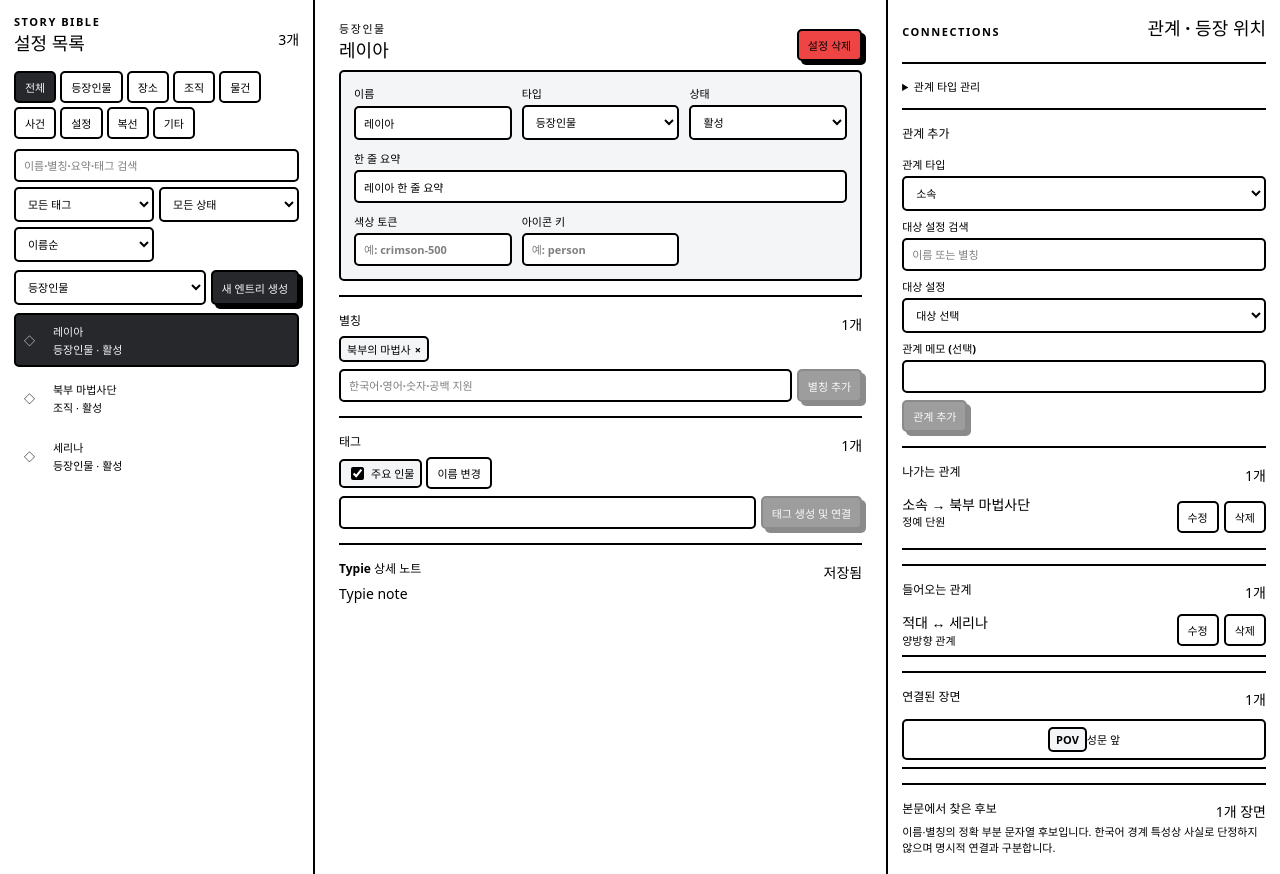
Test: Phase 1C Story Bible workspace › cancels a tag rename and starts again from the saved name
Step 1. Click the button with aria-label "주요 인물 태그 이름 변경" → (459, 473), box [426,457,492,489]
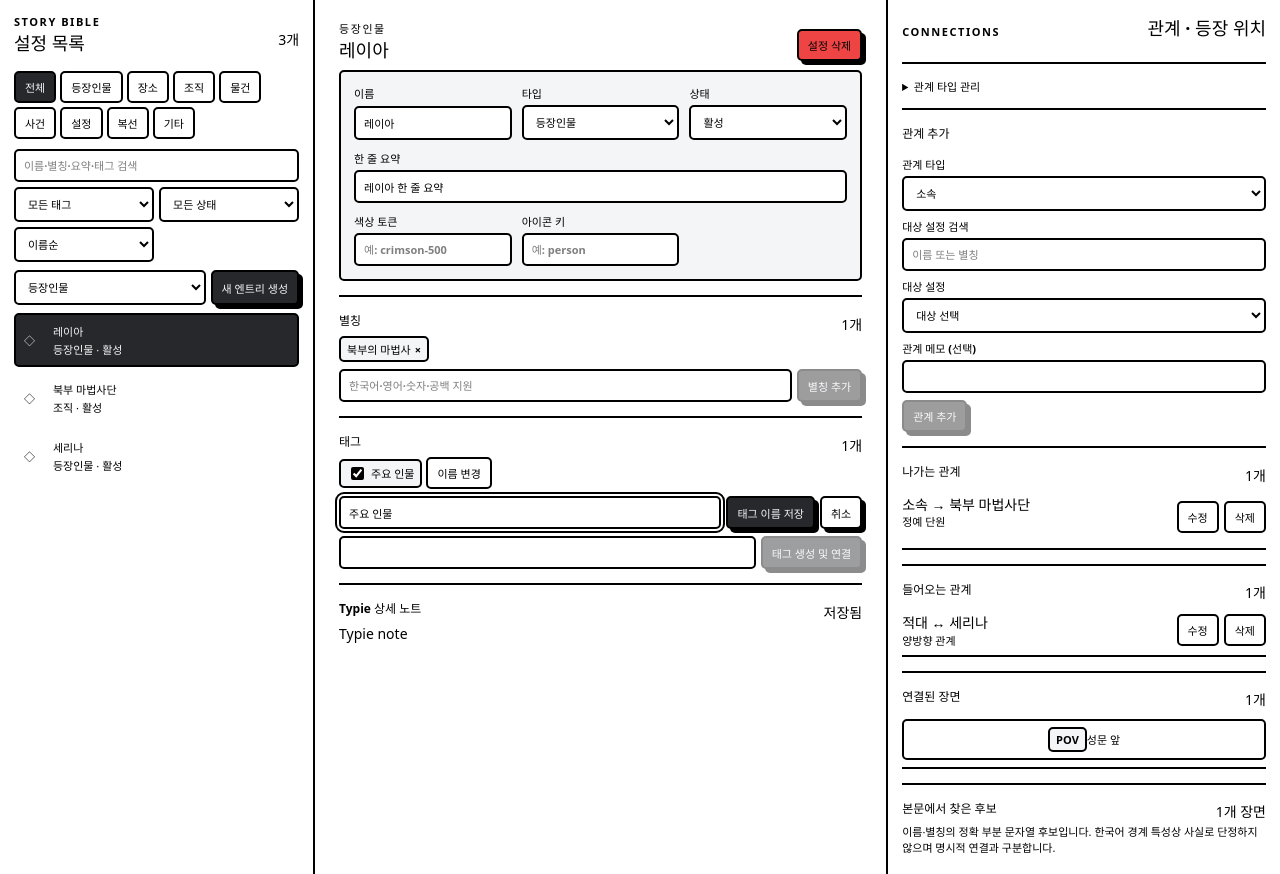
Step 2. Replace the text in the field named "주요 인물 태그 이름" with "취소할 이름" → (530, 512), box [339,496,722,529]
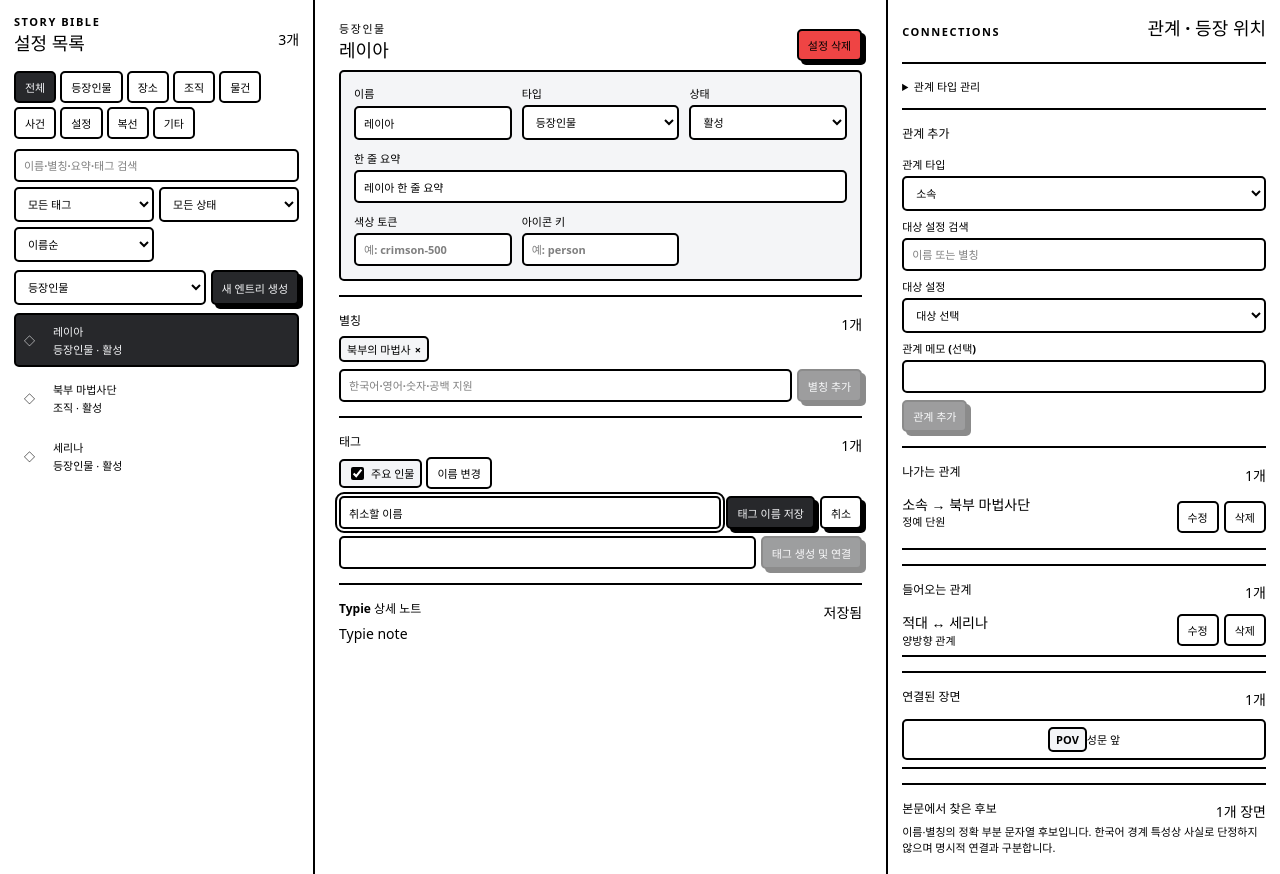
Step 3. Click the button "취소" → (841, 512), box [820,496,862,529]
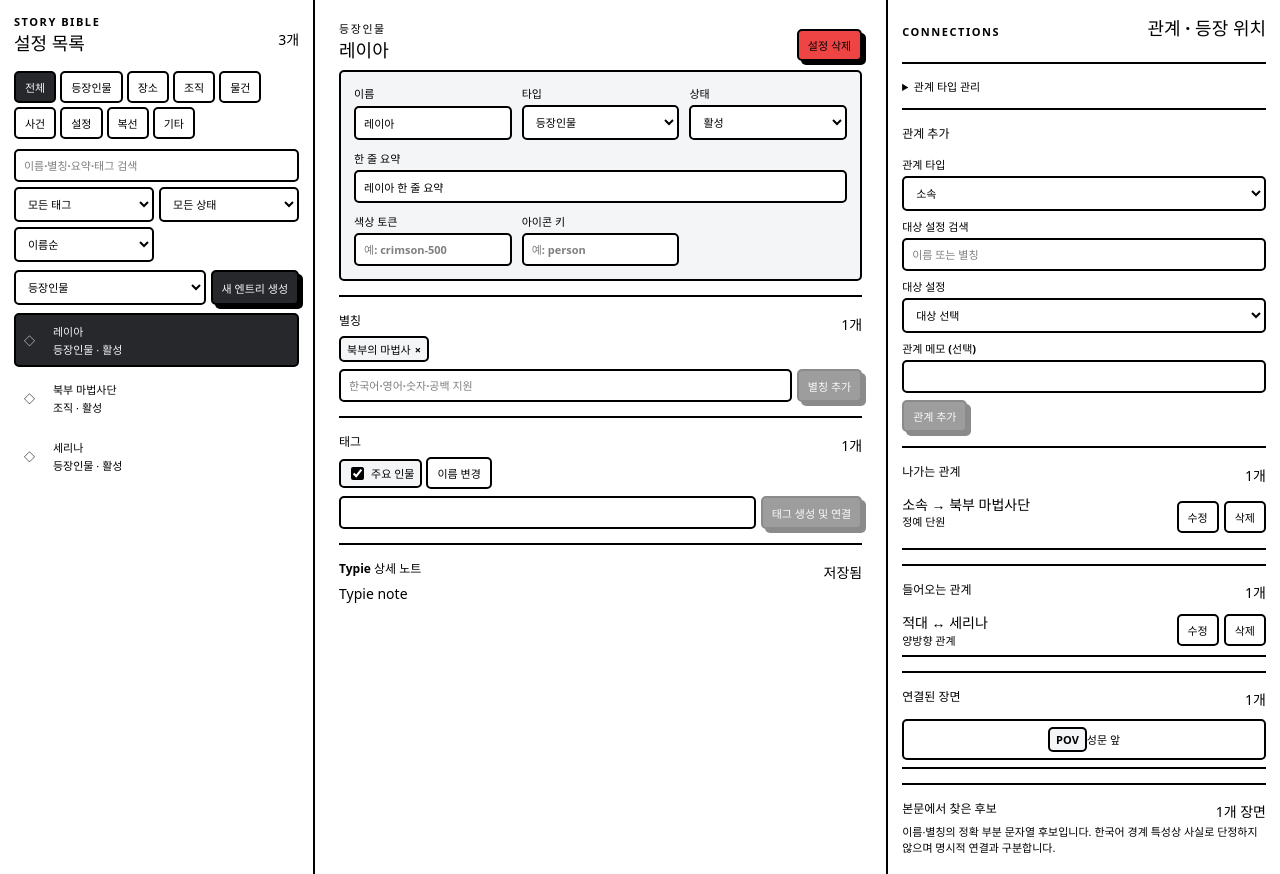
Now the button "태그 이름 저장" is gone
Step 4. Click the button with aria-label "주요 인물 태그 이름 변경" → (459, 473), box [426,457,492,489]
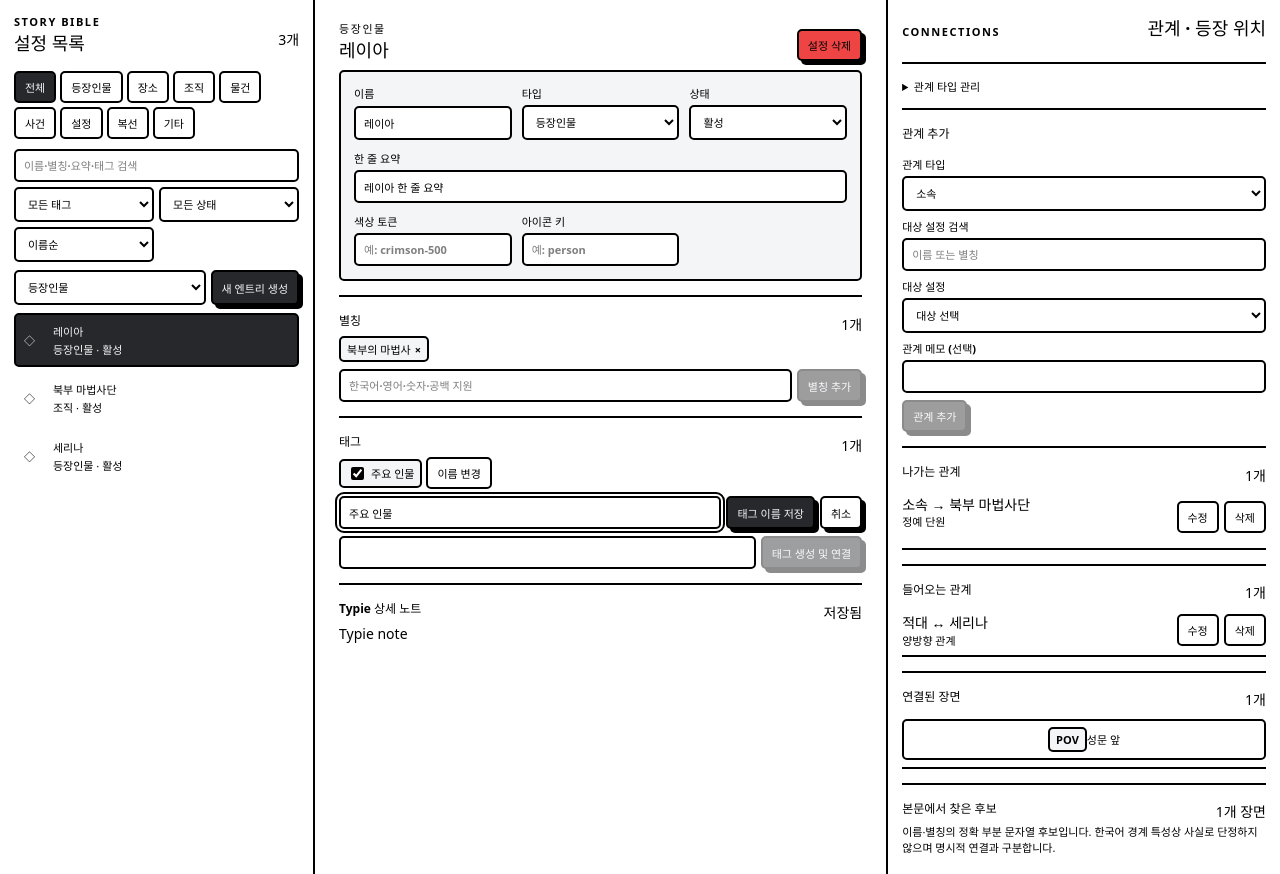
Now the field named "주요 인물 태그 이름" holds "주요 인물", box [339,496,722,529]
